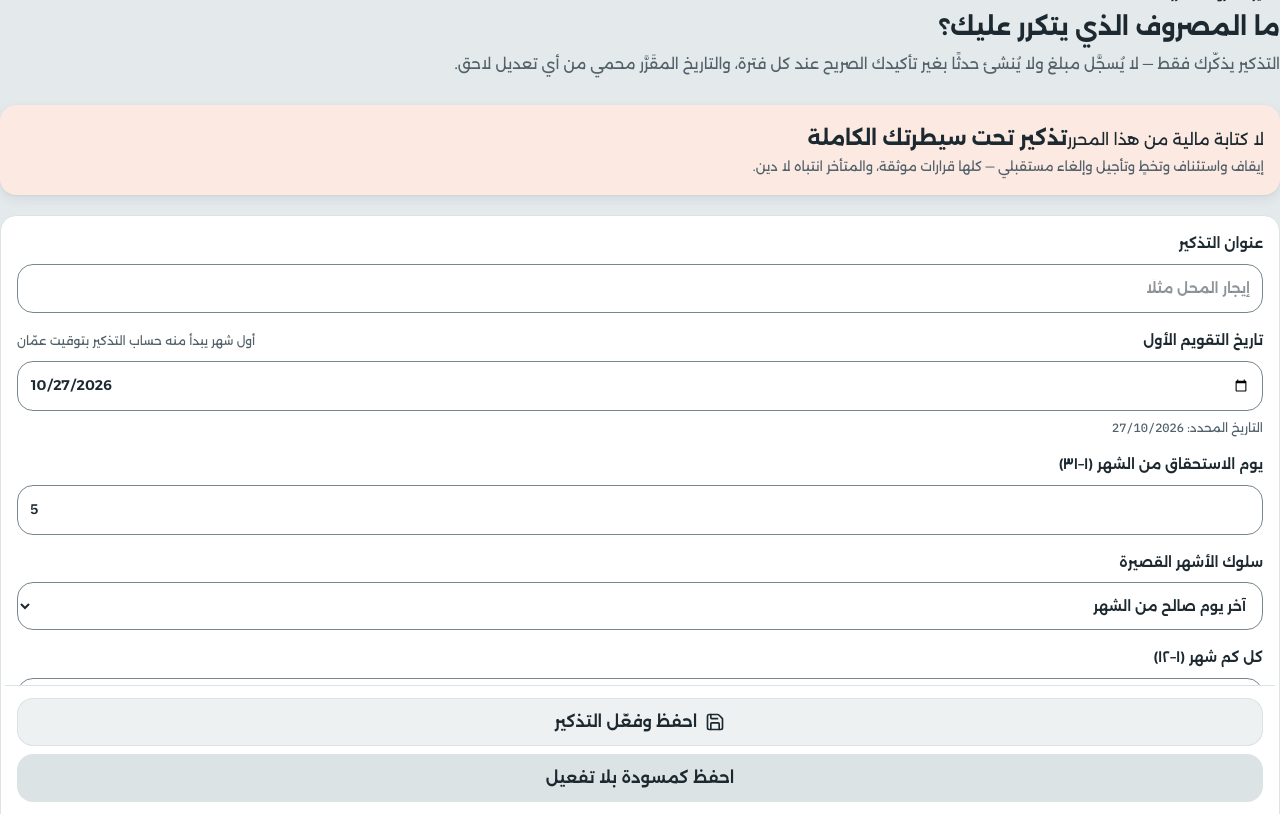
it: OPS-003 — محرر التذكير (DOM) › العنوان الفارغ مرفوض برسالة صادقة بلا أي كتابة
The image size is (1280, 814).
Step 1. Click the button "احفظ وفعّل التذكير" → [640, 722], box [17,698,1263,746]
(page scrolled)
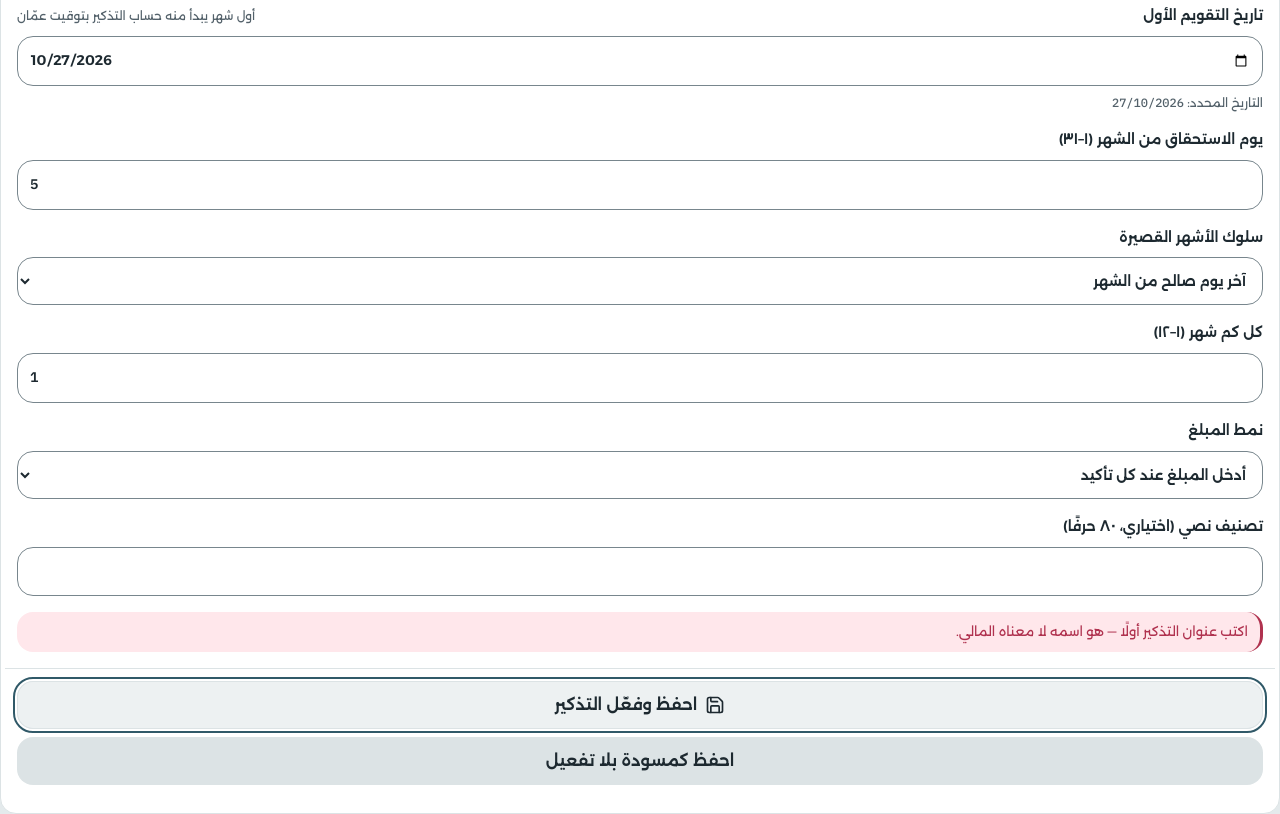
Check: the text "اكتب عنوان التذكير أولًا — هو اسمه لا معناه المالي." is shown, box [17,612,1263,652]
